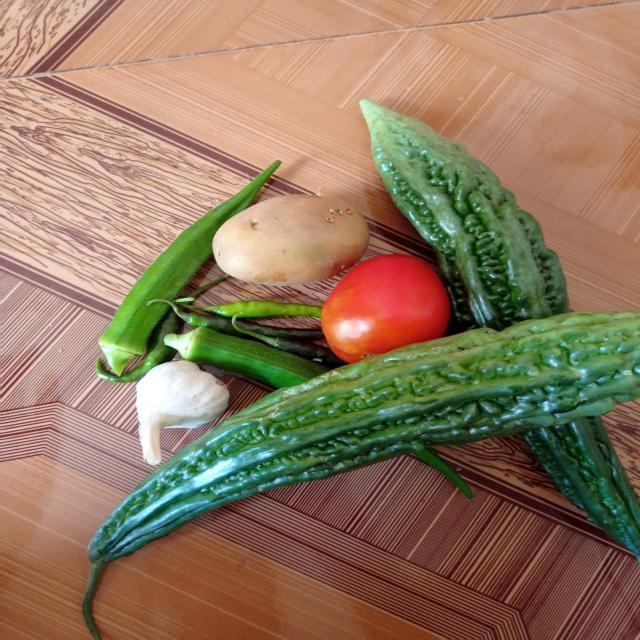Organik: (380, 105, 639, 328), (296, 318, 640, 440), (503, 330, 640, 539), (78, 234, 210, 362), (208, 194, 369, 285), (118, 356, 230, 469), (322, 256, 438, 365), (201, 304, 339, 354)
